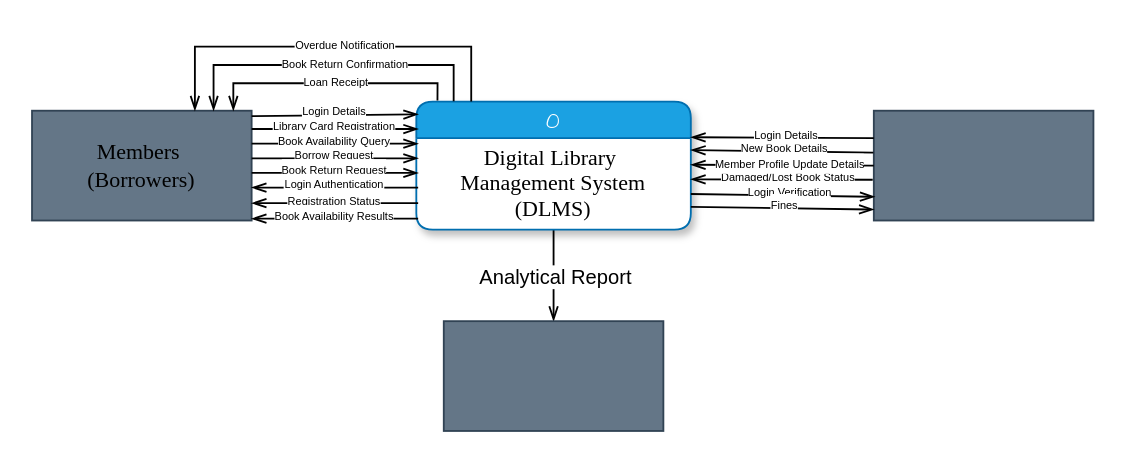
This 1125x463 diagram has some shape labels left out. Each missing label, with the centre of its shape:
Librarians: (982,165)
Library Administration: (552,375)
